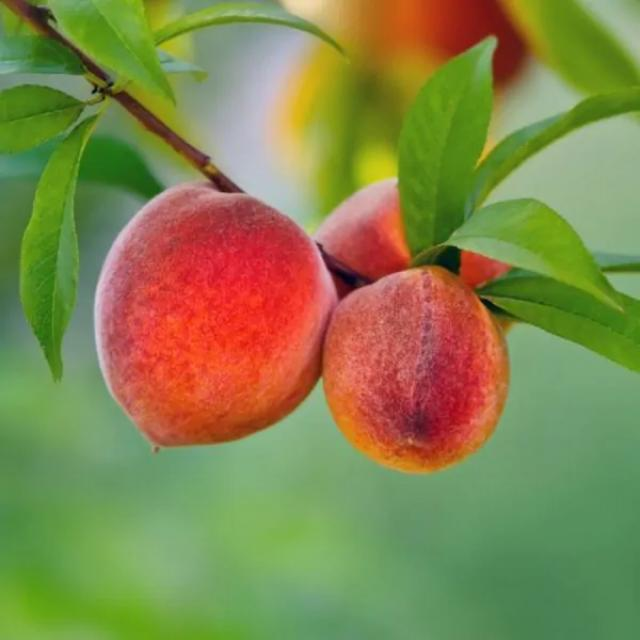Peach: (0, 0, 640, 491)
